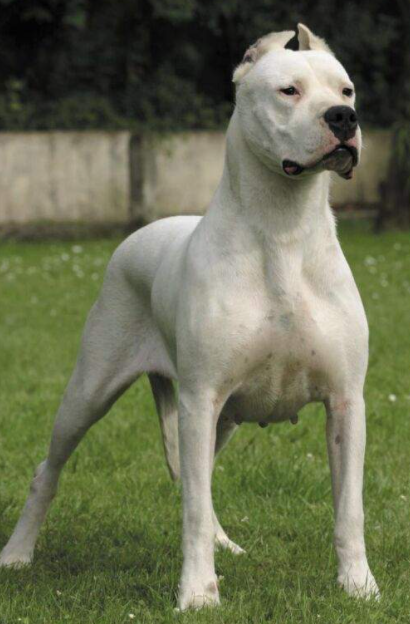dog: (0, 23, 379, 597)
